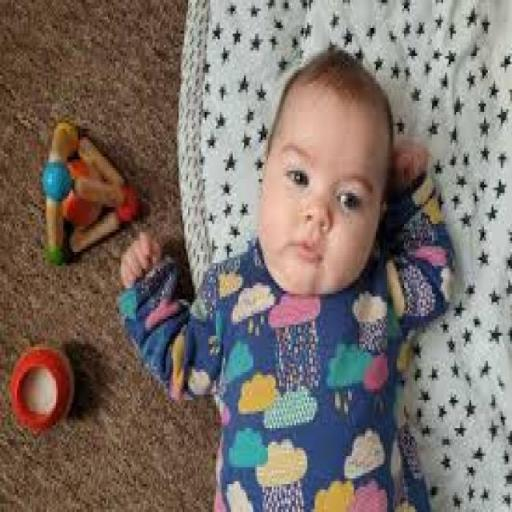baby: (119, 47, 453, 512)
